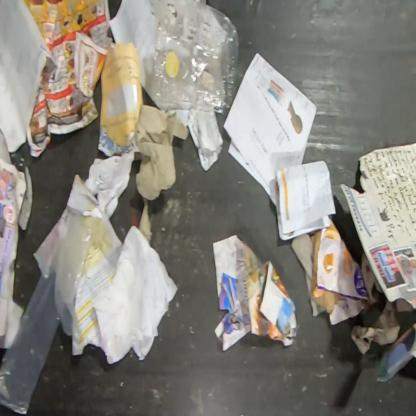rigid_plastic: (151, 0, 240, 113)
soft_plastic: (0, 212, 94, 415)
